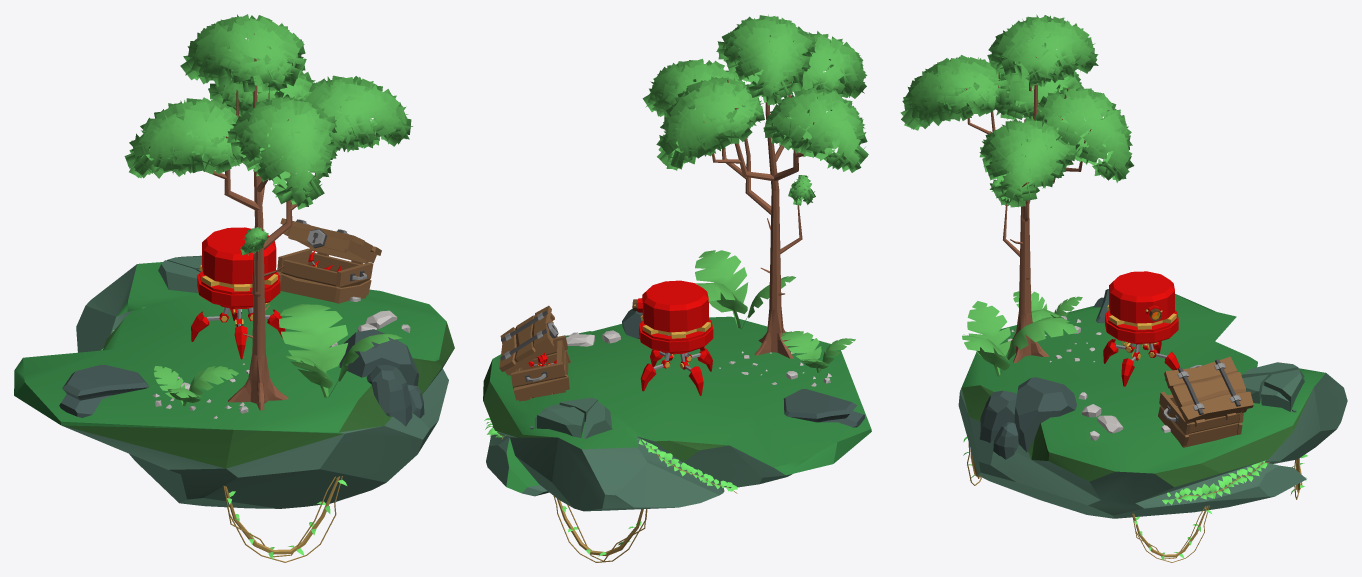
The model's file is LootMachinaXScene.gltf.
The picture shows the model from 3 angles, left to right: view 1: azimuth 30°, elevation 25°; view 2: azimuth 150°, elevation 25°; view 3: azimuth 270°, elevation 25°; orthographic projection. The views are drawn at different scales.
Visible parts, largest first — view 1: Rock_005.001, Tree_004, Polygonal Robot Hermit, Plant_004.001, Rocks_Round_l_2C_02, SM_Prop_Chest_Wood_01, Rock_Flat_l_01, SM_Prop_Chest_Wood_Lid, Liana_003.001, Plant_004, Rock_Flat_crk_m_2C_03, SM_Env_Rubble_Pebbles_02; view 2: Rock_005.001, Tree_004, Polygonal Robot Hermit, Plant_004.001, SM_Prop_Chest_Wood_Lid, SM_Prop_Chest_Wood_01, Rock_Flat_crk_m_2C_03, Rock_Flat_l_01, Plant_004, Liana_003, Ivy_003.001, SM_Env_Rubble_Pebbles_02; view 3: Rock_005.001, Tree_004, Polygonal Robot Hermit, Rocks_Round_l_2C_02, SM_Prop_Chest_Wood_Lid, Plant_004.001, Rock_Flat_crk_m_2C_03, SM_Prop_Chest_Wood_01, Ivy_003, Plant_004, Liana_003.002, SM_Env_Rubble_Pebbles_02.
Part boxes in pixels (x1,y1,x2,y2): Rock_005.001: (14, 262, 454, 508); Tree_004: (124, 14, 412, 410); Polygonal Robot Hermit: (191, 227, 285, 359); Plant_004.001: (279, 304, 402, 397); Rocks_Round_l_2C_02: (339, 329, 424, 426); SM_Prop_Chest_Wood_01: (277, 248, 373, 303); Rock_Flat_l_01: (59, 365, 149, 417); SM_Prop_Chest_Wood_Lid: (280, 218, 381, 263); Liana_003.001: (223, 476, 347, 562); Plant_004: (154, 366, 238, 406); Rock_Flat_crk_m_2C_03: (158, 255, 201, 293); SM_Env_Rubble_Pebbles_02: (330, 296, 410, 347); Rock_005.001: (483, 316, 871, 511); Tree_004: (642, 14, 868, 358); Polygonal Robot Hermit: (632, 280, 713, 395); Plant_004.001: (695, 250, 795, 328); SM_Prop_Chest_Wood_Lid: (499, 305, 558, 375); SM_Prop_Chest_Wood_01: (509, 335, 570, 401); Rock_Flat_crk_m_2C_03: (530, 397, 612, 438); Rock_Flat_l_01: (783, 389, 864, 427); Plant_004: (780, 331, 855, 372); Liana_003: (553, 496, 647, 562); Ivy_003.001: (637, 439, 737, 493); SM_Env_Rubble_Pebbles_02: (566, 330, 620, 346); Rock_005.001: (958, 294, 1347, 518); Tree_004: (900, 14, 1134, 362); Polygonal Robot Hermit: (1103, 271, 1179, 386); Rocks_Round_l_2C_02: (979, 377, 1076, 459); SM_Prop_Chest_Wood_Lid: (1164, 356, 1253, 423); Plant_004.001: (962, 301, 1077, 376); Rock_Flat_crk_m_2C_03: (1241, 362, 1304, 412); SM_Prop_Chest_Wood_01: (1158, 391, 1243, 447); Ivy_003: (1162, 460, 1269, 504); Plant_004: (1013, 291, 1082, 322); Liana_003.002: (1132, 505, 1211, 562); SM_Env_Rubble_Pebbles_02: (1078, 392, 1170, 440).
Bounding box in the file's own units: 118 × 147 × 129.
